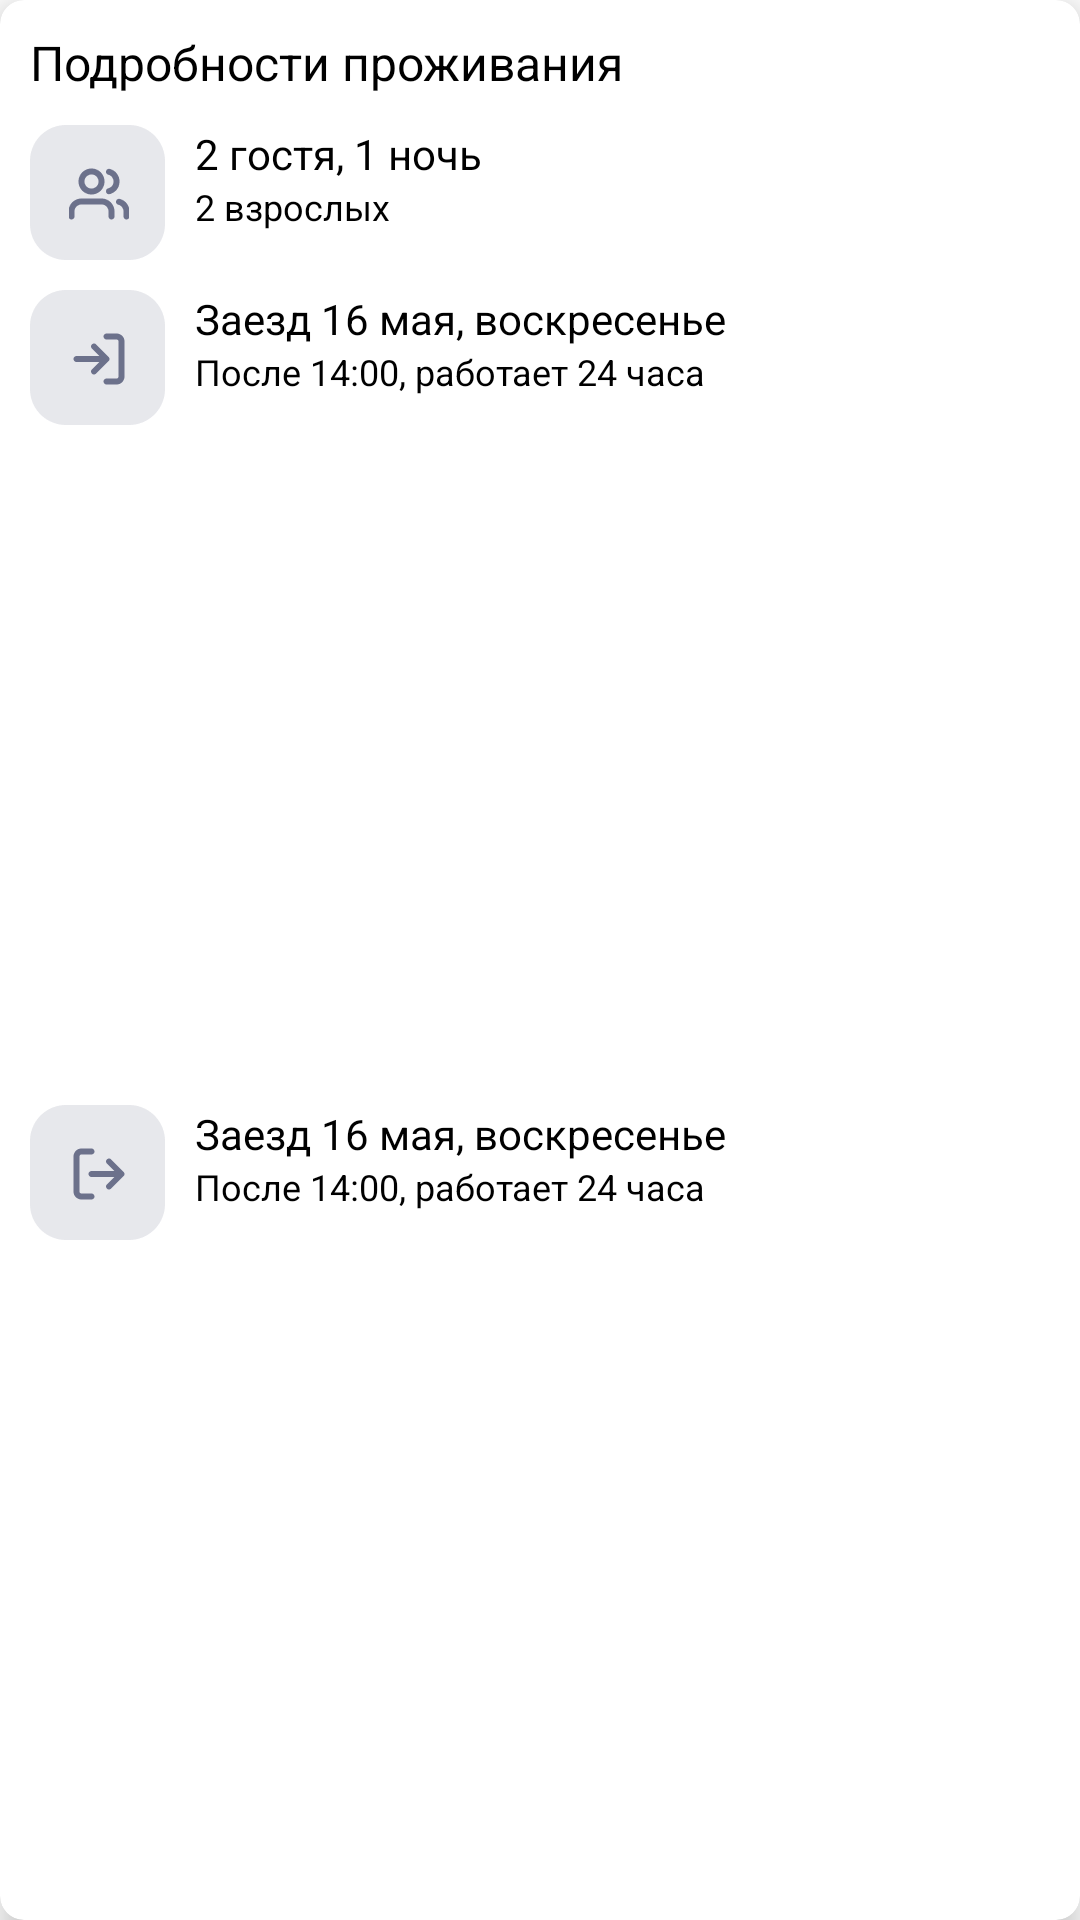

Named icons in this screenshot (1080×1920) and their centers, [x,y]:
check in: [97,357]
check out: [97,1172]
guest: [97,192]
